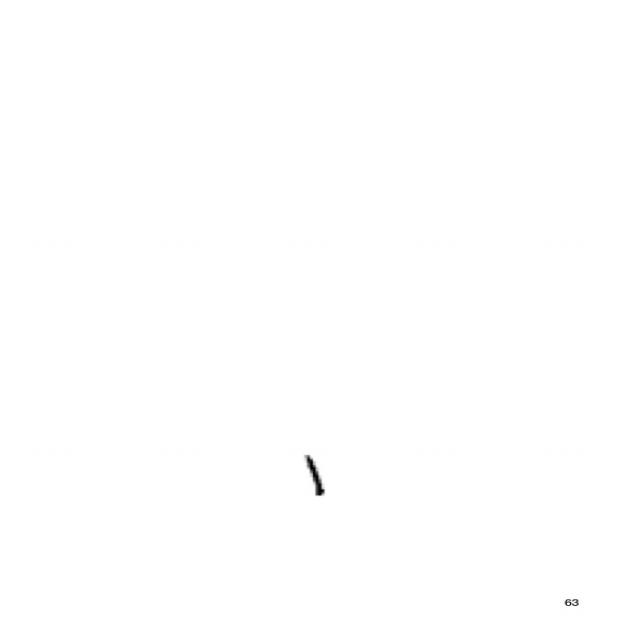1 -one-: (293, 441, 339, 512)
